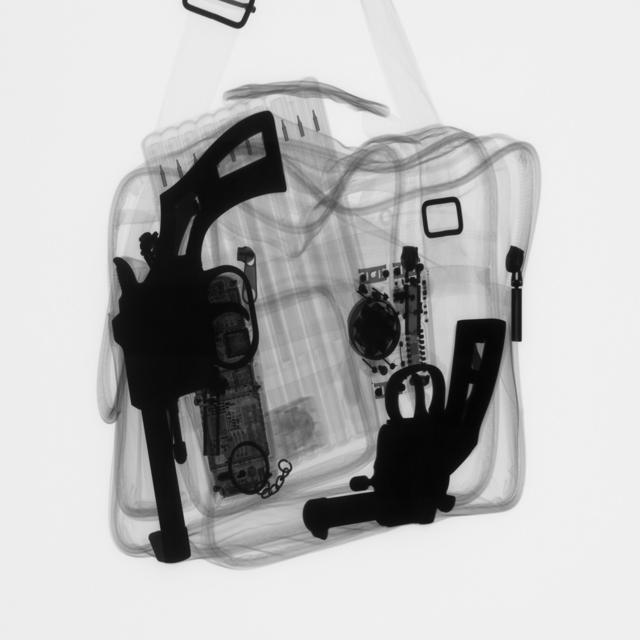gun: (107, 103, 285, 561), (309, 314, 508, 542)
